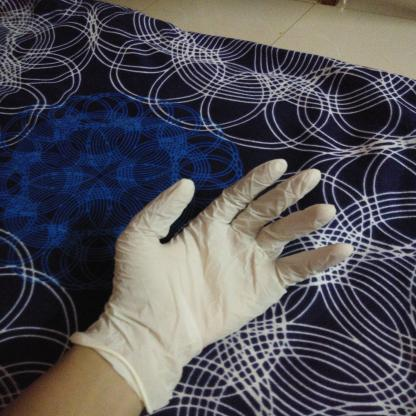gloved_hand: (57, 152, 358, 412)
